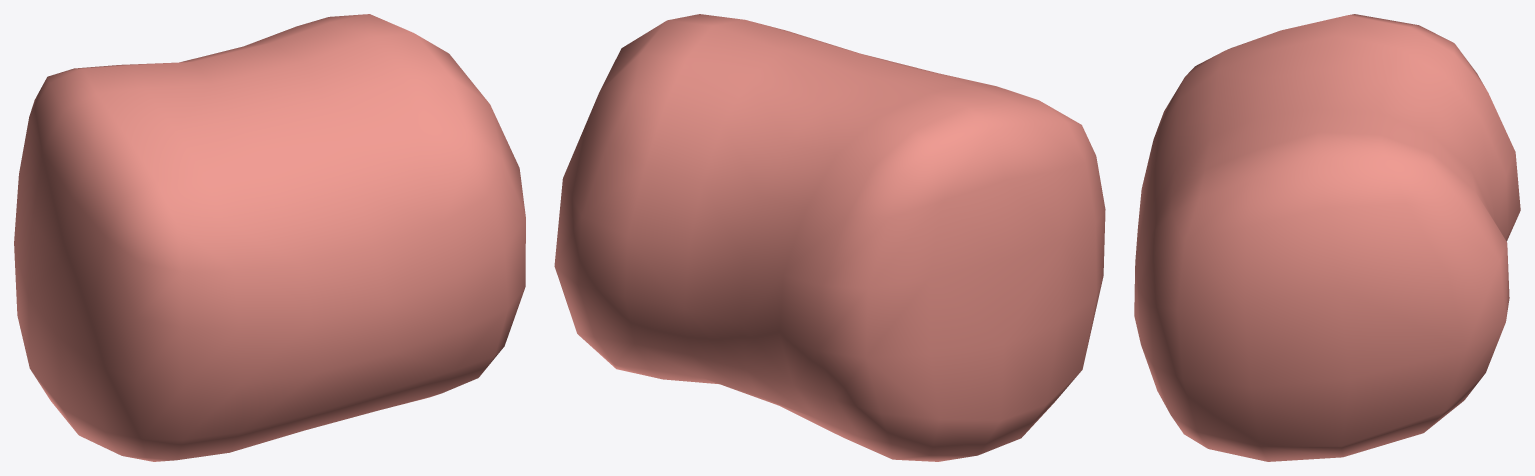
File: mixamo_humanoid_surface_leftHandMiddle2.fbx
3 renders of one model, left to right at view 1: azimuth 30°, elevation 25°; view 2: azimuth 150°, elevation 25°; view 3: azimuth 270°, elevation 25°, orthographic. The views are drawn at different scales.
Visible parts, largest first — view 1: surface_LeftHandMiddle2; view 2: surface_LeftHandMiddle2; view 3: surface_LeftHandMiddle2.
Part boxes in pixels (left/top/right/bottom): surface_LeftHandMiddle2: left=14, top=14, right=525, bottom=461; surface_LeftHandMiddle2: left=554, top=14, right=1105, bottom=461; surface_LeftHandMiddle2: left=1134, top=14, right=1520, bottom=461.
Bounding box in the file's own units: 2.28 × 1.7 × 1.84.
